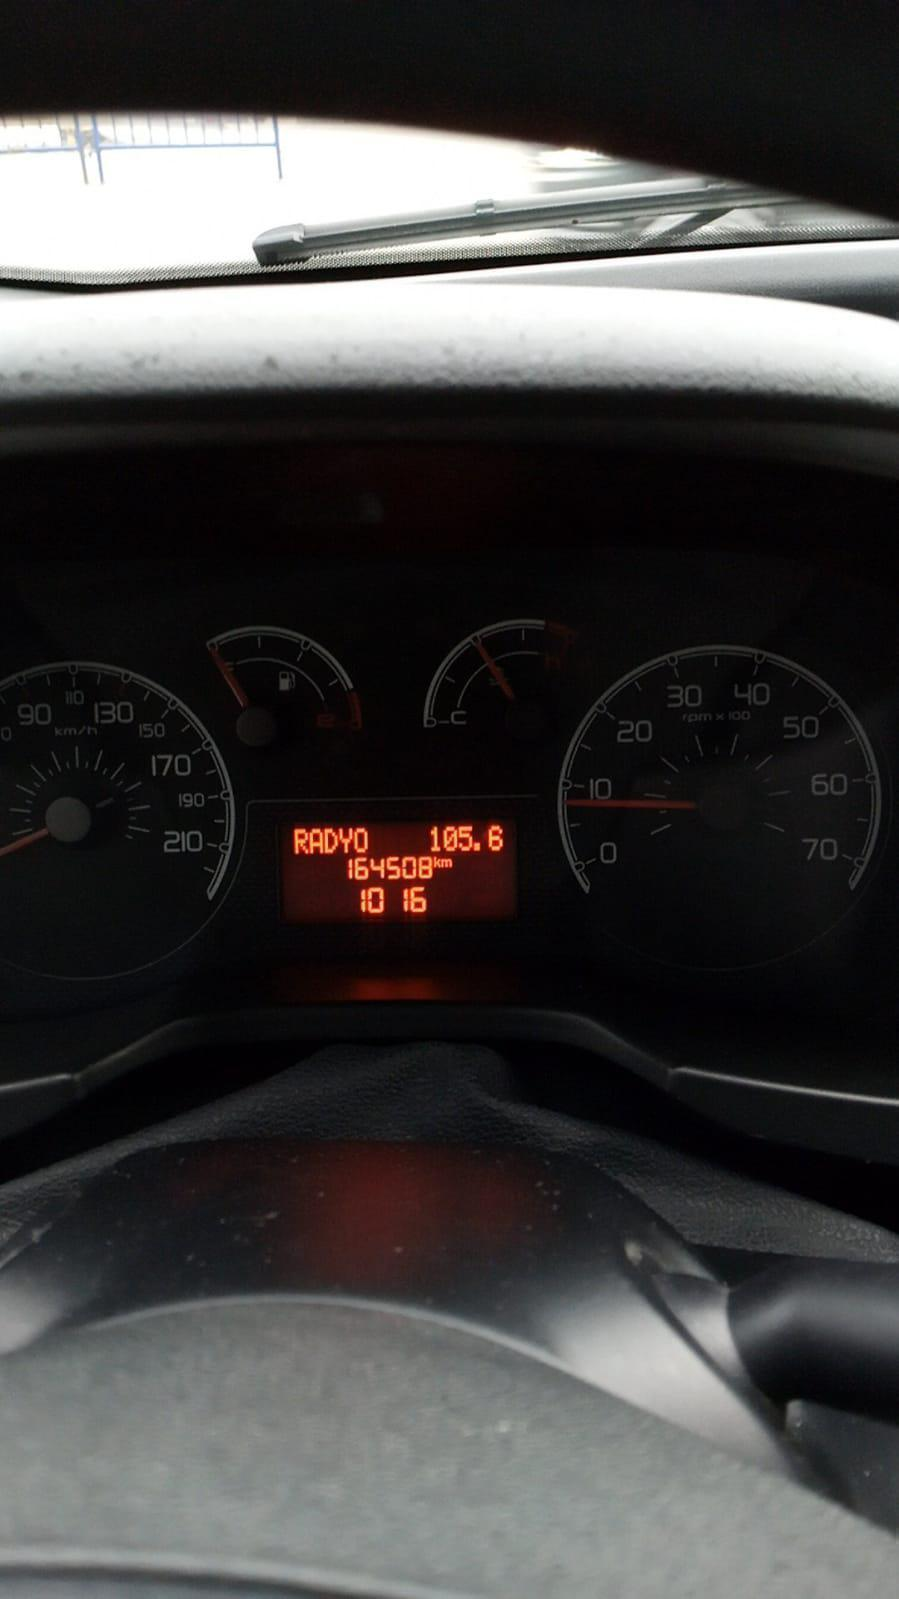,: (473, 841, 483, 852)
0: (367, 886, 384, 914), (442, 824, 457, 852), (401, 854, 415, 880)
1: (429, 823, 443, 853), (402, 886, 409, 912), (346, 856, 353, 880), (359, 887, 366, 914)
4: (370, 856, 384, 879)
5: (457, 823, 473, 852), (385, 856, 401, 880)
6: (409, 886, 428, 914), (487, 824, 505, 852), (353, 856, 369, 882)
8: (417, 856, 432, 879)
X: (323, 826, 339, 856), (353, 826, 370, 854), (292, 828, 308, 856), (338, 824, 352, 854), (310, 827, 322, 854), (440, 857, 454, 869), (432, 854, 441, 869)
odometer: (279, 817, 518, 927)
